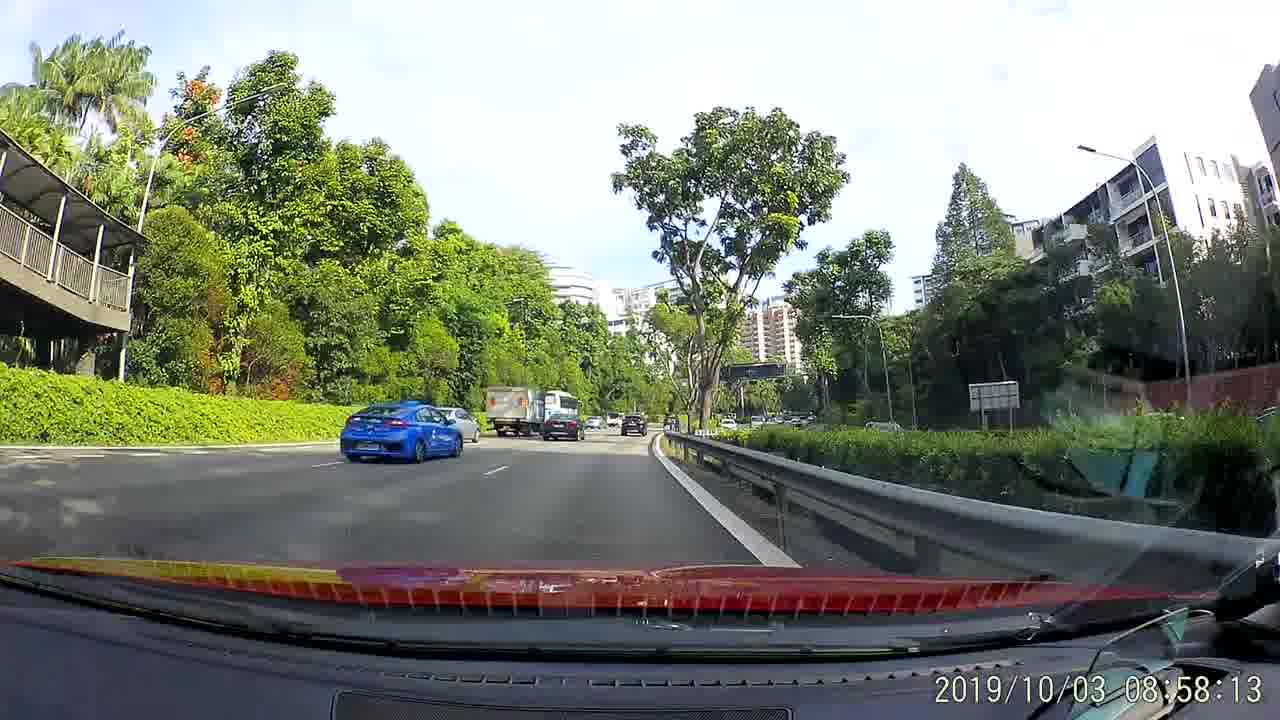bus: (544, 388, 582, 425)
car: (337, 395, 469, 466), (431, 406, 482, 442), (540, 411, 586, 446), (619, 415, 650, 437), (583, 413, 608, 430)
